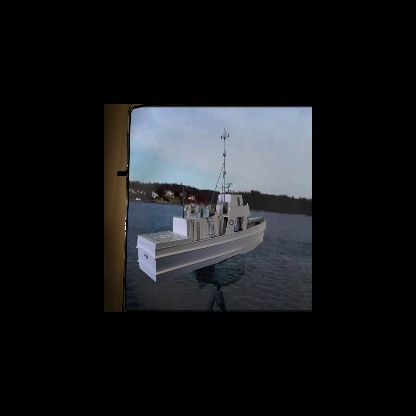YP689: (136, 130, 267, 287)
